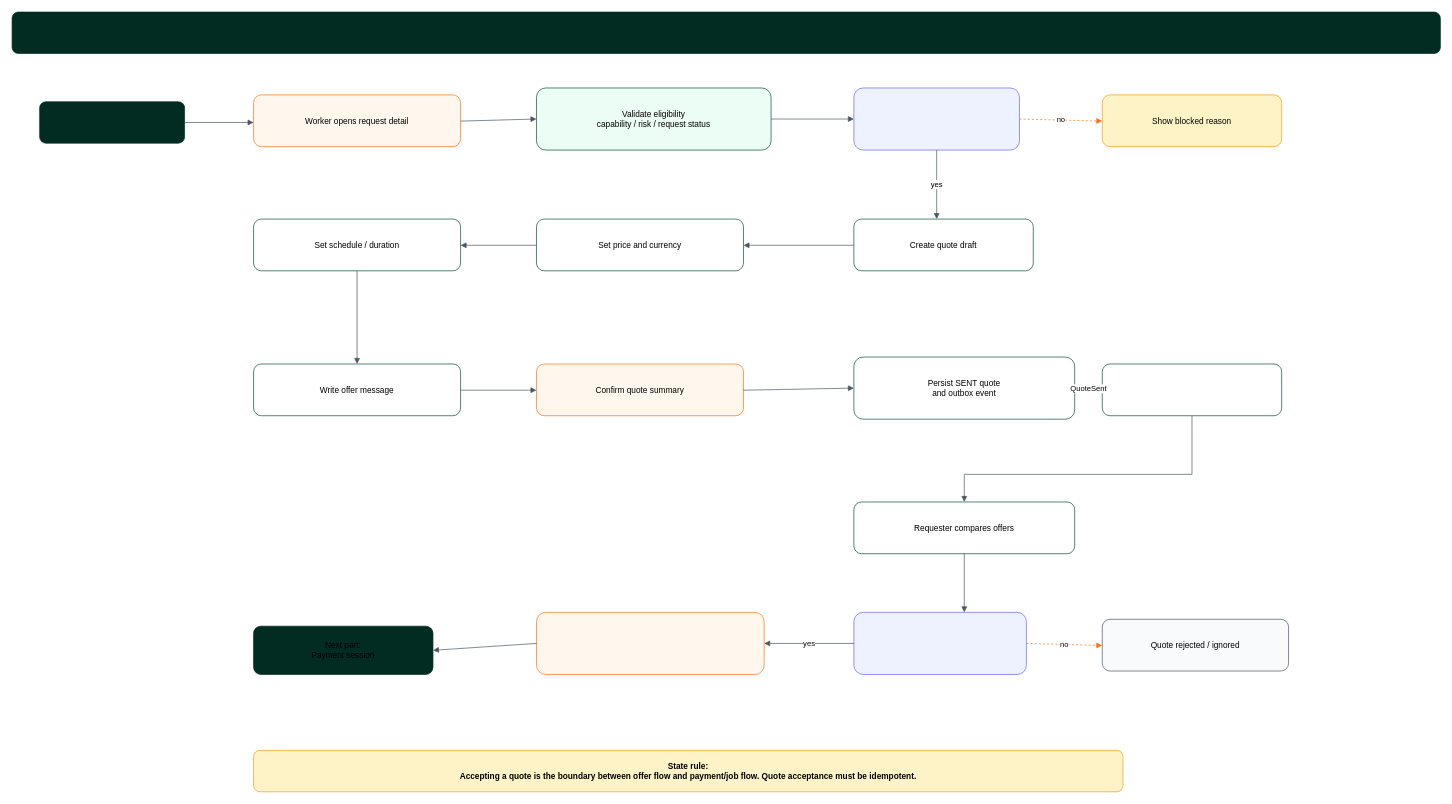
This 1452x804 diagram has some shape labels left out. Here are the shapes that lost their labels. From the top down, the centre of each, then its label:
(x=725, y=32): Viaverse Quote / Offer — Activity Diagram
(x=112, y=122): START matched opportunity
(x=936, y=118): Allowed to quote?
(x=1192, y=389): Notify requester
(x=650, y=643): Set quote ACCEPTED create Job draft
(x=939, y=643): Requester accepts?
